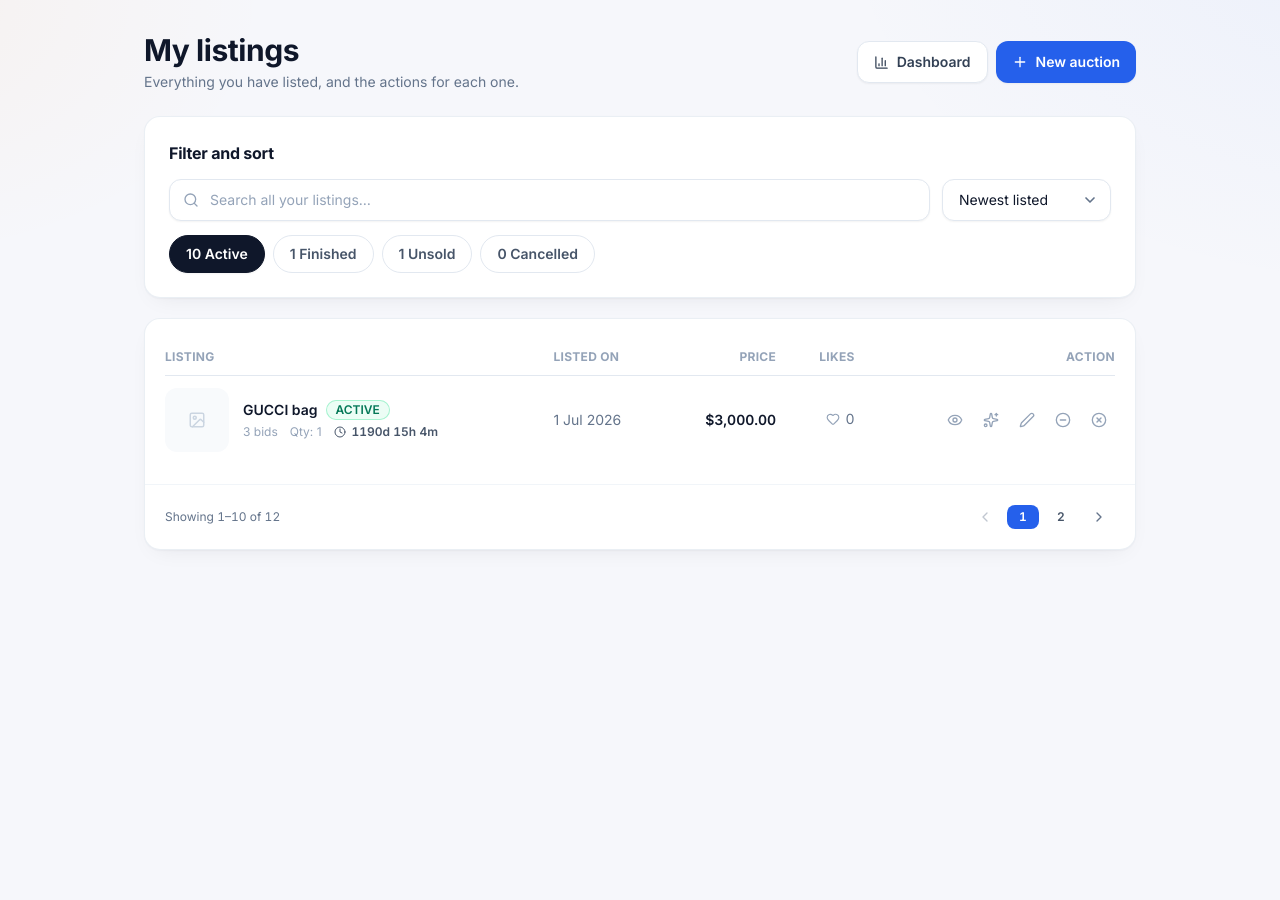
Scenario: cancelling records a reason › warns that the bidders will be told, and how many there are
Click the button named "cancel this auction". click: (1099, 420)
box: x1=1083 y1=404 x2=1115 y2=436
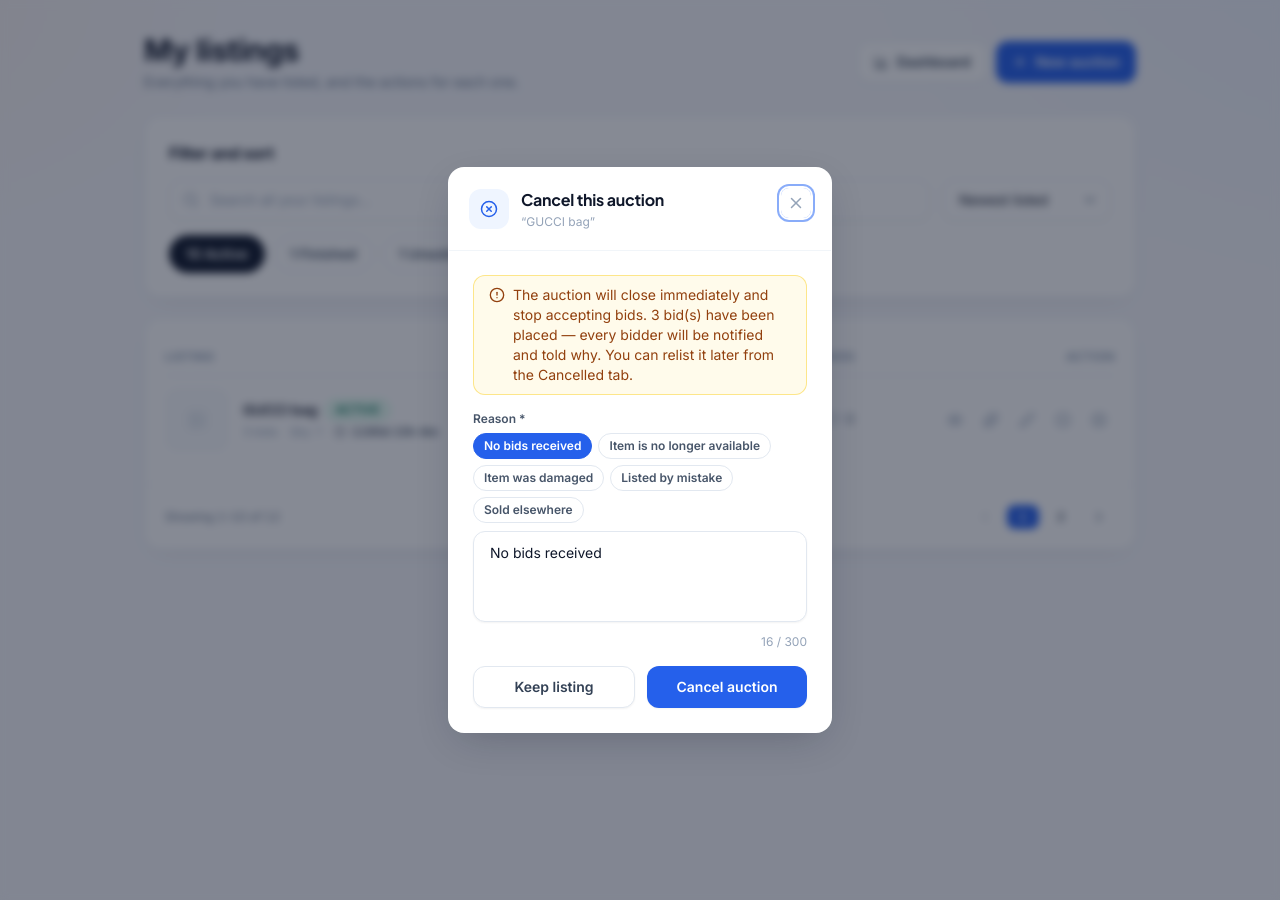
Now the text "3 bid(s) have been placed" is shown, box x1=513 y1=306 x2=774 y2=363
